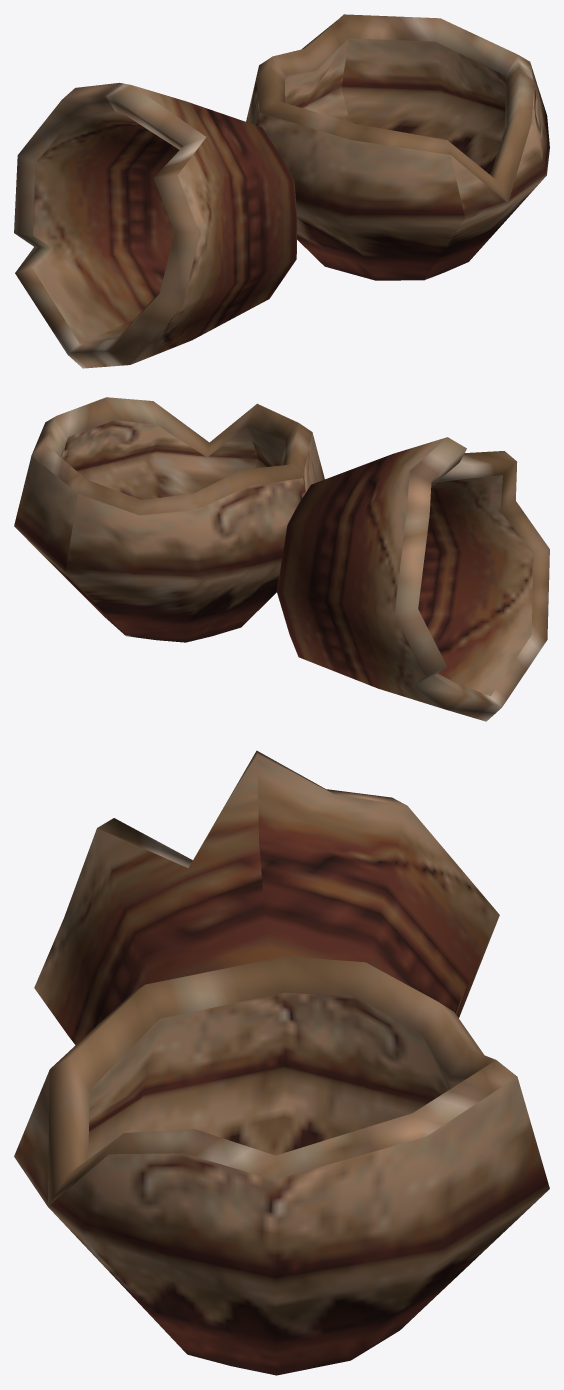
Rendered from 6002_Item_taoguan08.FBX.
3 renders of one model, top to bottom at view 1: azimuth 30°, elevation 25°; view 2: azimuth 150°, elevation 25°; view 3: azimuth 270°, elevation 25°, orthographic. The views are drawn at different scales.
Parts seen in each view (by area): view 1: 6002_Item_taoguan08; view 2: 6002_Item_taoguan08; view 3: 6002_Item_taoguan08.
Boxes of the visible parts, x1=… form: 6002_Item_taoguan08: x1=14, y1=14, x2=549, y2=368; 6002_Item_taoguan08: x1=14, y1=397, x2=549, y2=721; 6002_Item_taoguan08: x1=14, y1=750, x2=549, y2=1375.
Size of the model in its own units: 181 by 98.12 by 112.
